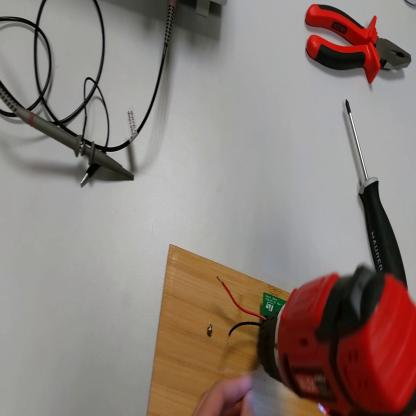electric screwdriver: (259, 264, 416, 413)
hand: (195, 372, 255, 412)
high voltage board: (215, 275, 287, 346)
oscilloscope: (188, 1, 228, 17)
oscilloscope probe tip: (1, 90, 137, 184)
pliers: (302, 3, 412, 88)
working area: (146, 245, 321, 416)
